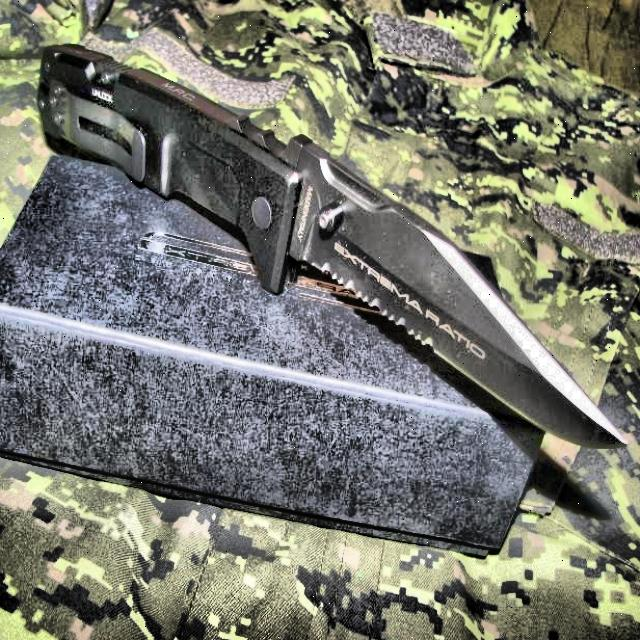knife: (41, 45, 628, 446)
